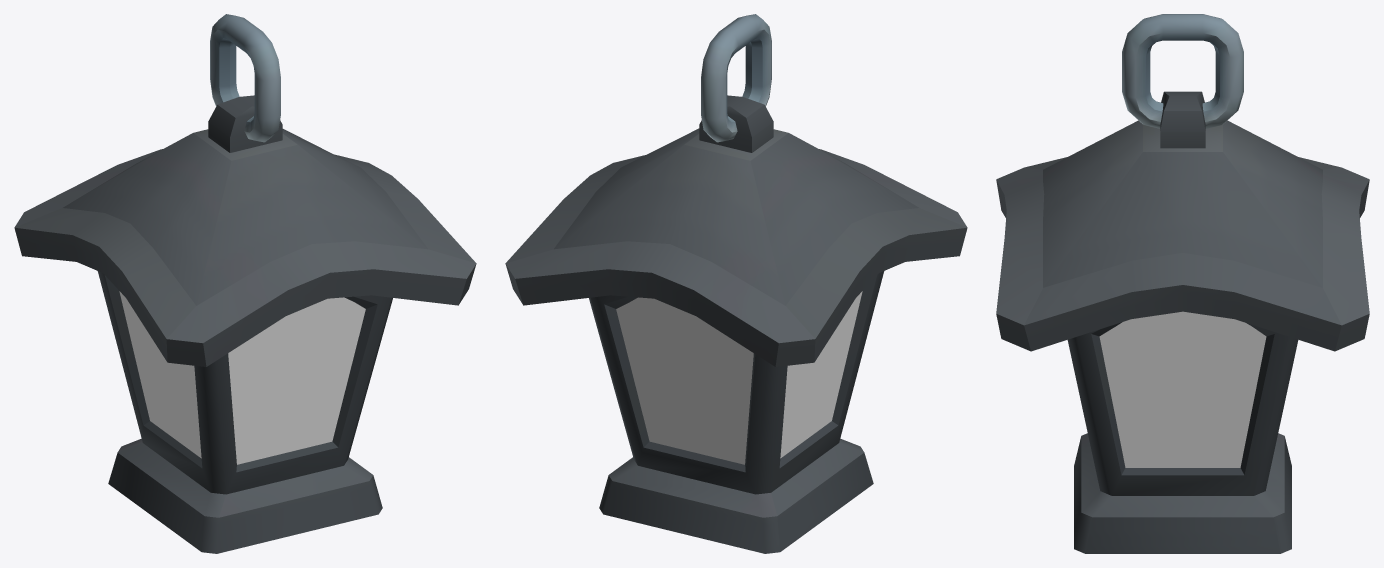
File: lykta.glb
3 views of the same model, side by side, from view 1: azimuth 30°, elevation 25°; view 2: azimuth 150°, elevation 25°; view 3: azimuth 270°, elevation 25° (orthographic). The views are drawn at different scales.
Visible parts, largest first — view 1: lantern, lantern_handle; view 2: lantern, lantern_handle; view 3: lantern, lantern_handle.
Part boxes in pixels (x1,y1,x2,y2): lantern: (14,95,476,553); lantern_handle: (210,14,280,142); lantern: (505,95,967,553); lantern_handle: (701,14,771,142); lantern: (996,91,1369,553); lantern_handle: (1122,14,1243,128).
Bounding box in the file's own units: 0.7528 × 1.11 × 0.7528.
2 materials, 1 textured.
